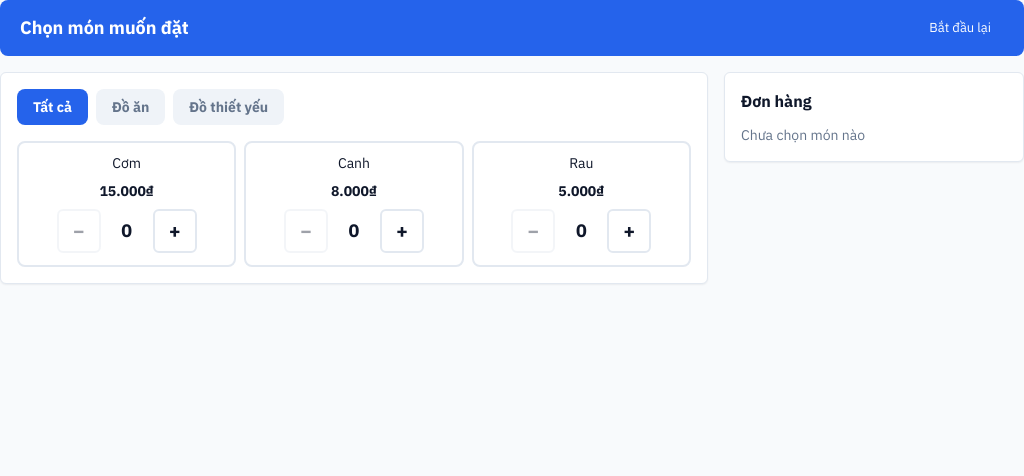
Test case: MenuCalculator — global-menu order builder › disables submit until a payment method is chosen
Click the button "+" below "15.000": (175, 230) [153,208,197,252]
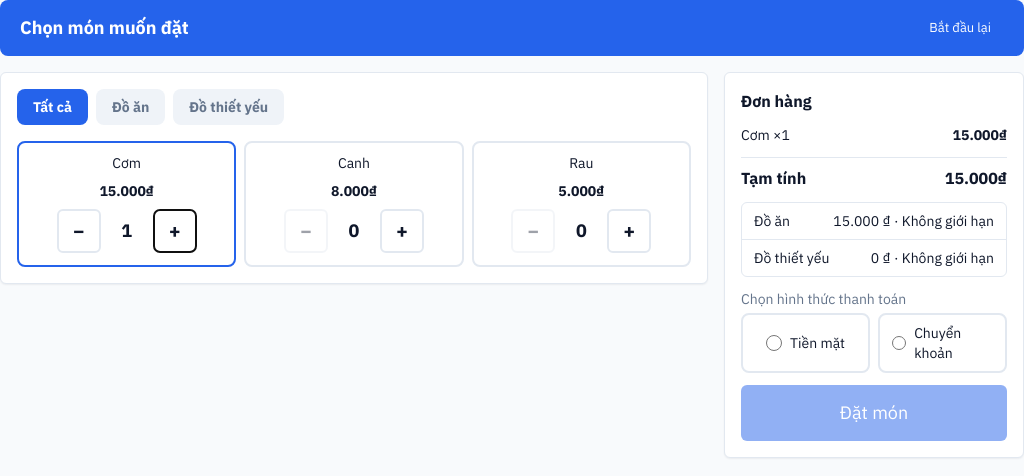
expect the button "Đặt món" is disabled: met, box [741,385,1007,441]
Click the radio button labelled "Tiền mặt": (774, 343) [766,335,782,351]
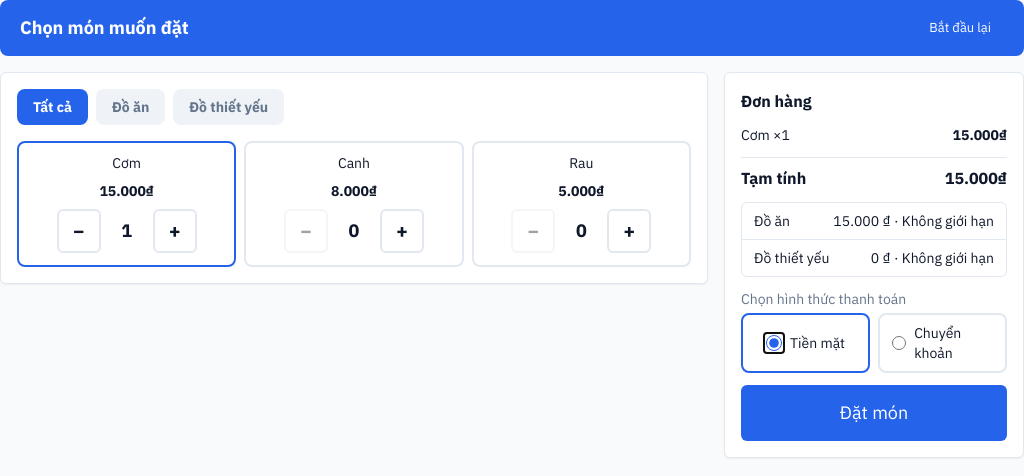
expect the button "Đặt món" is enabled: met, box [741,385,1007,441]
